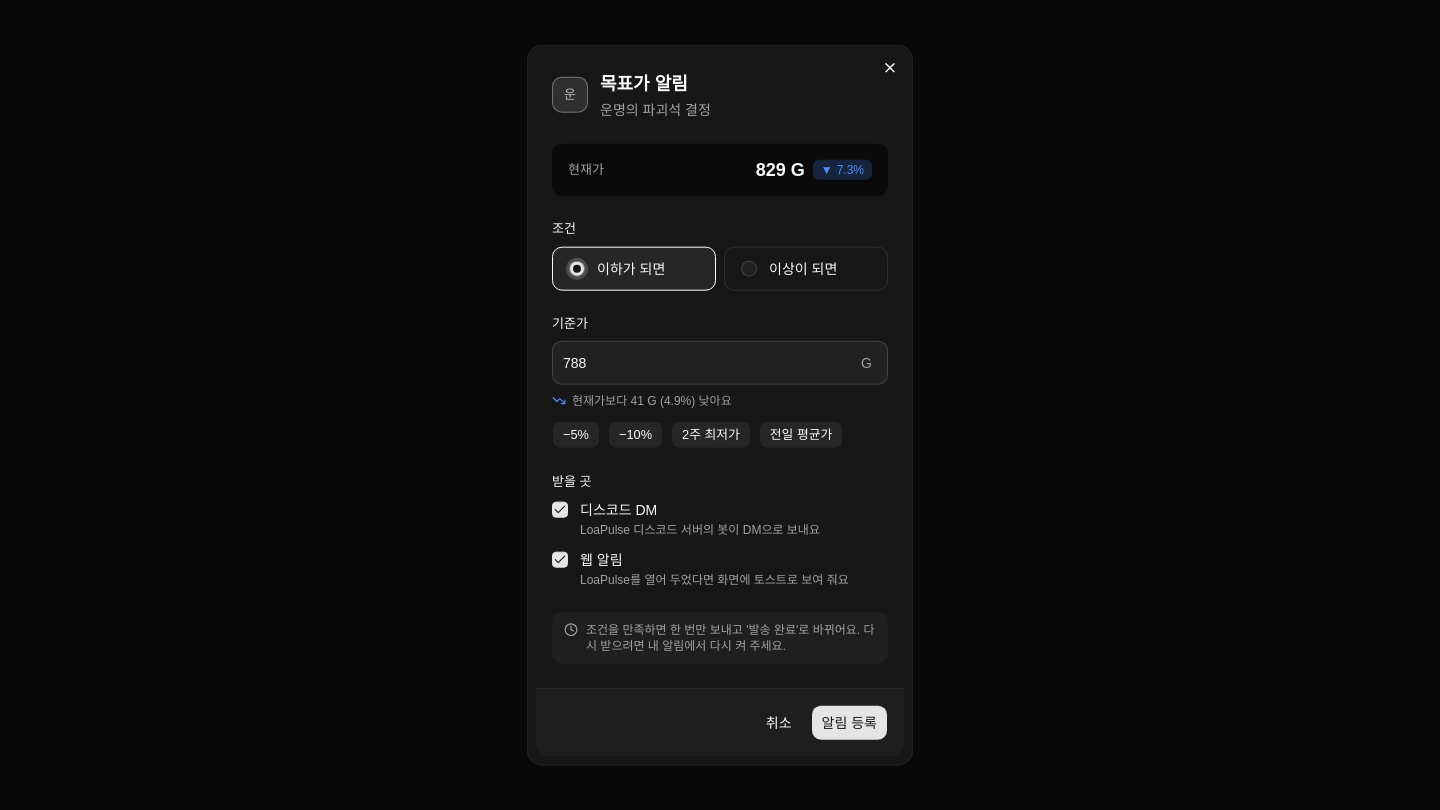
Test: 알림 설정 모달 › 등록하면 토스트를 보여주고 모달을 닫는다
Click the radio button named "이상이 되면" next to "이상이 되면".
click(749, 268)  # box top-left (741, 260), bottom-right (757, 276)
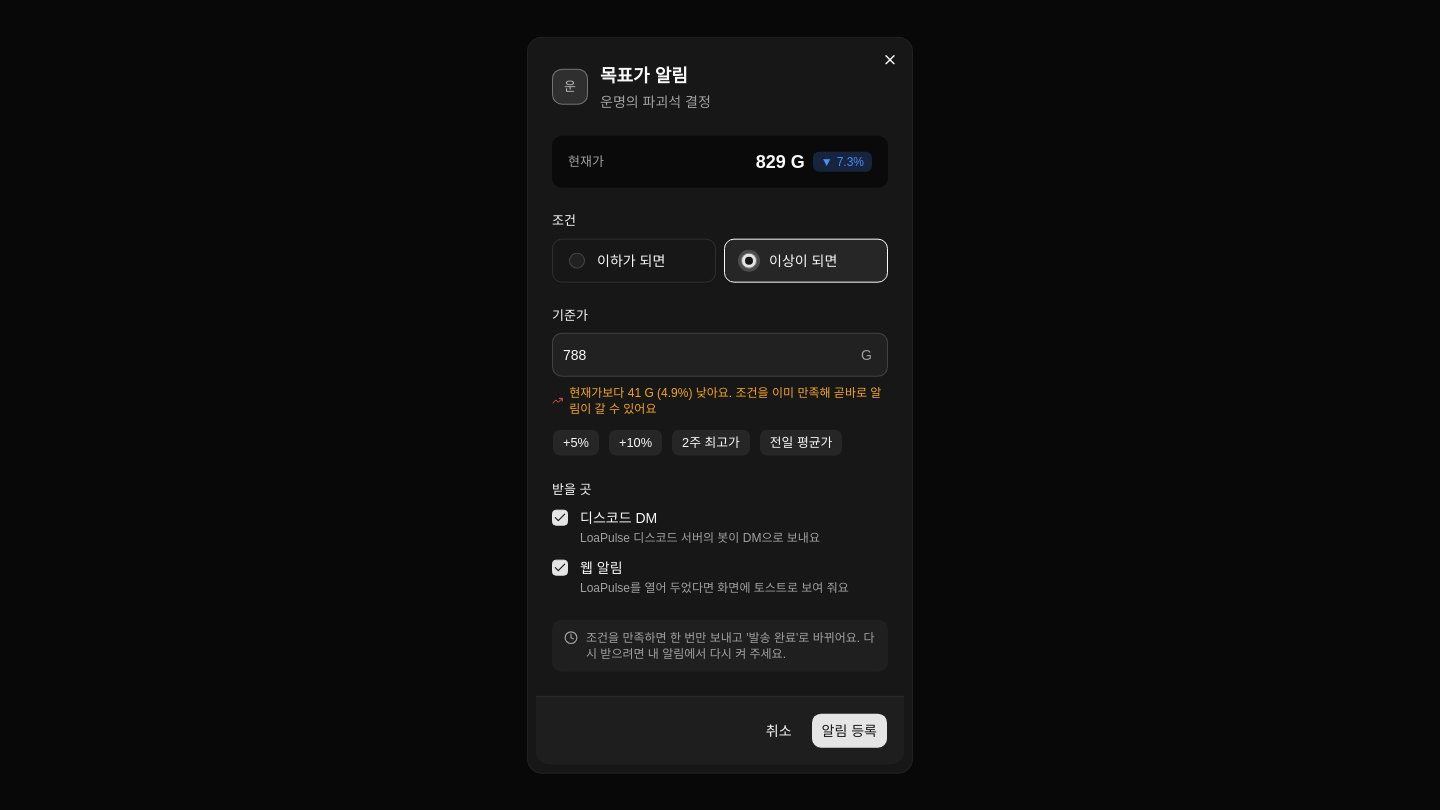
Clear the field labelled "기준가" at [720, 355], box top-left (552, 333), bottom-right (888, 377)
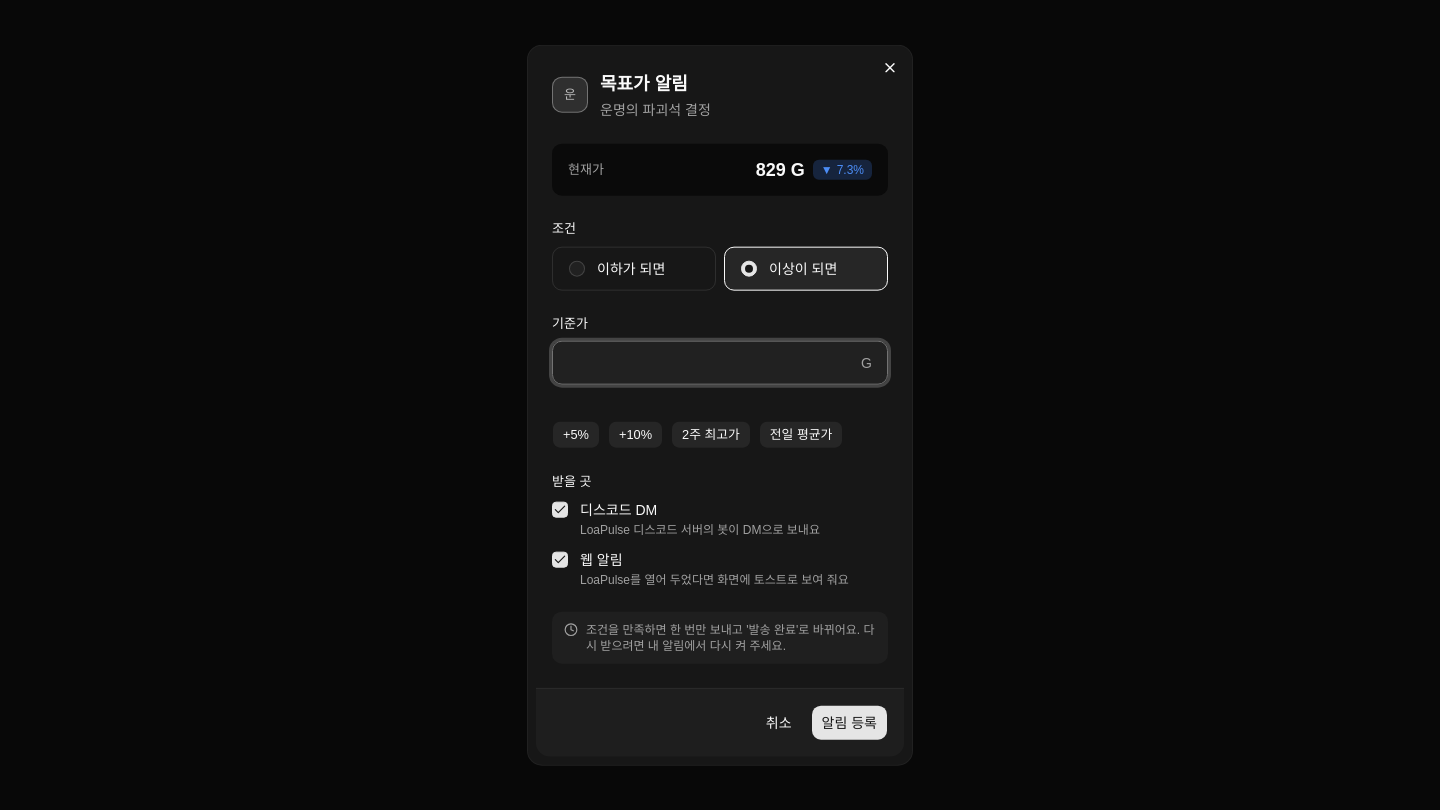
Type "1,000" into the field labelled "기준가".
click(720, 363); type("1,000")  # box top-left (552, 341), bottom-right (888, 385)
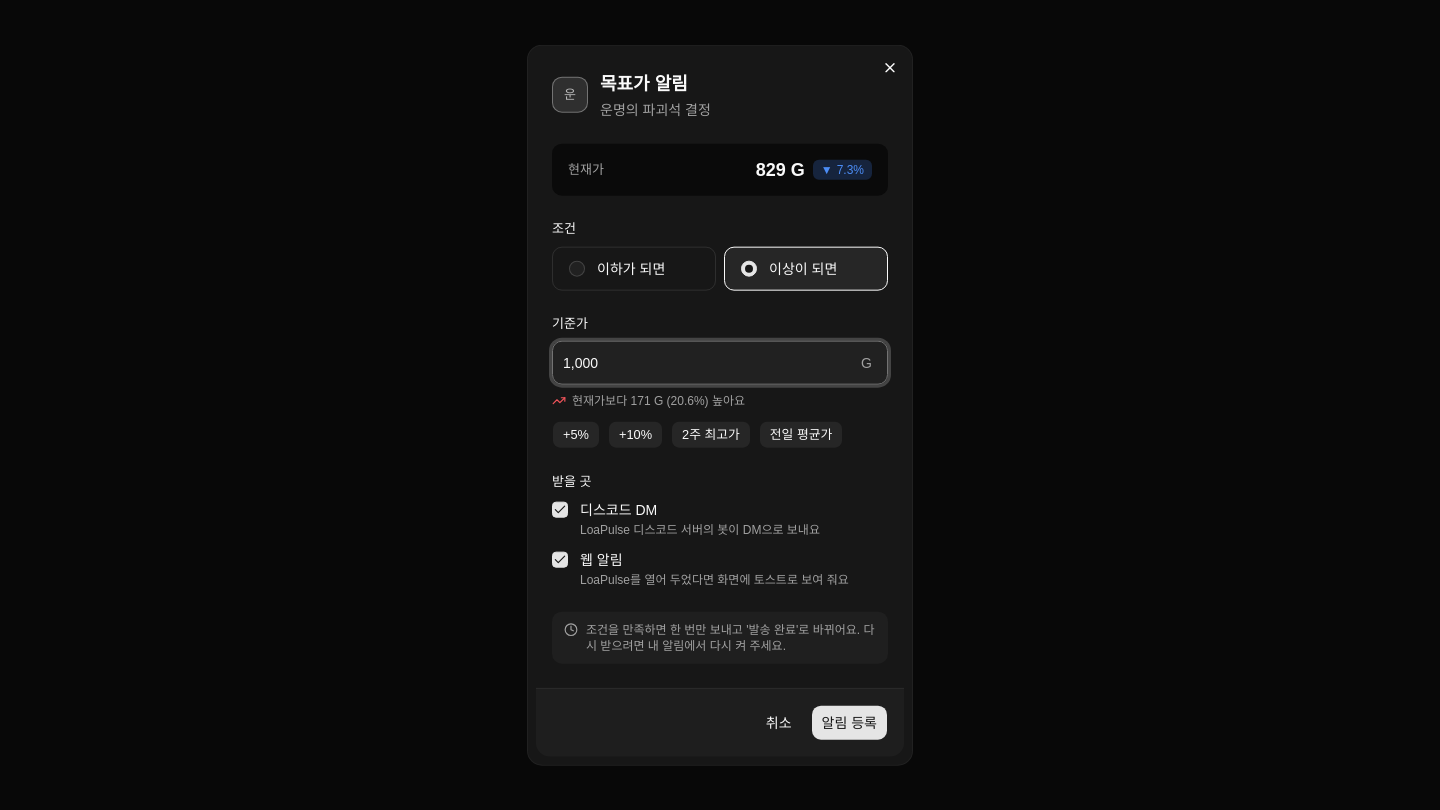
Click the button "알림 등록".
click(849, 722)  # box top-left (811, 704), bottom-right (888, 740)
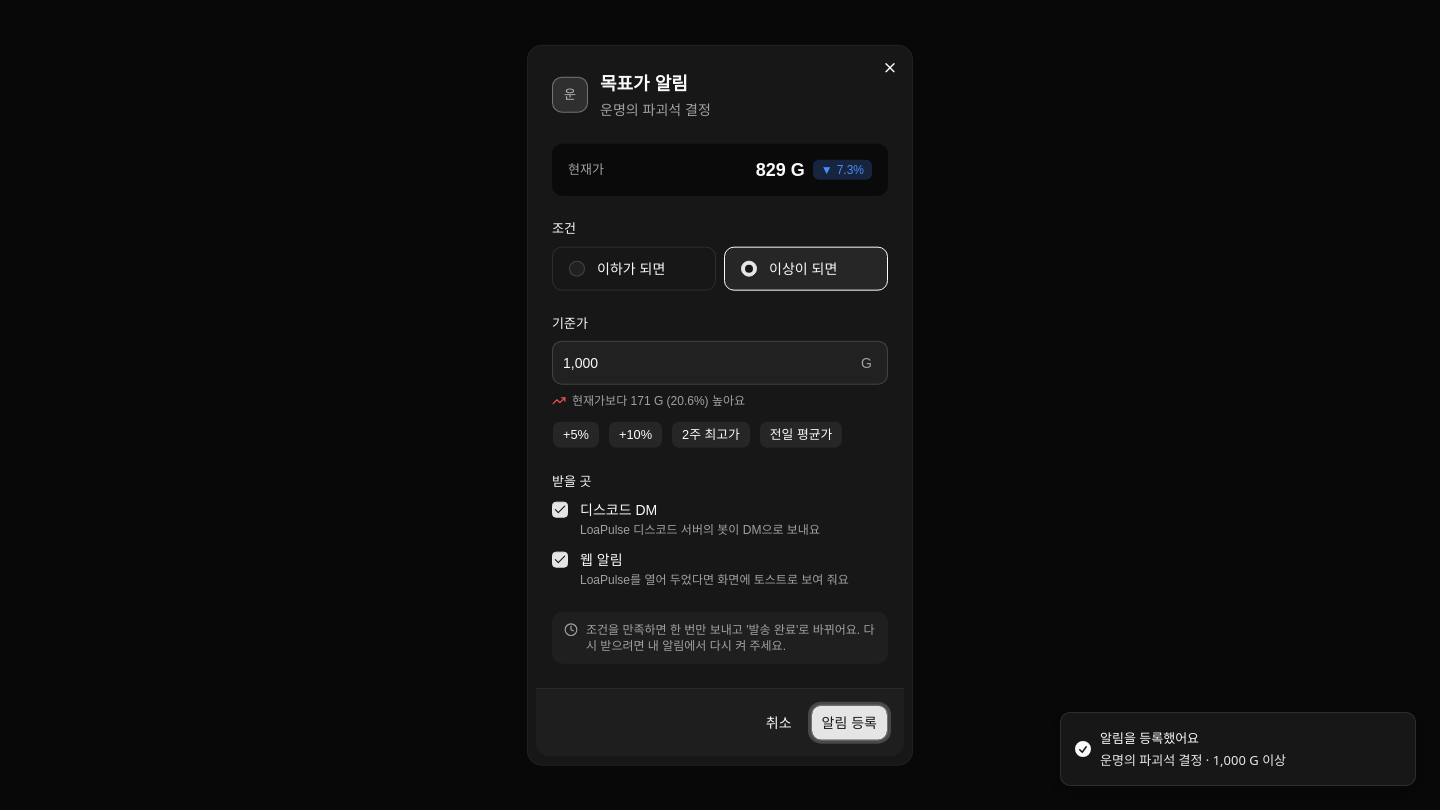
Now the text "알림을 등록했어요" is shown, box top-left (1100, 729), bottom-right (1199, 747)
